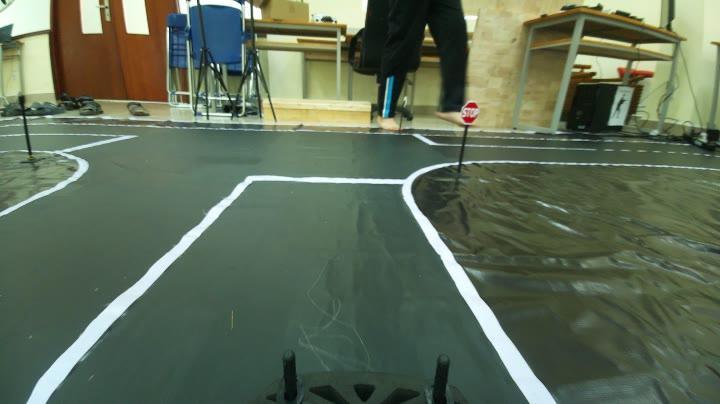stop: (460, 95, 484, 126)
